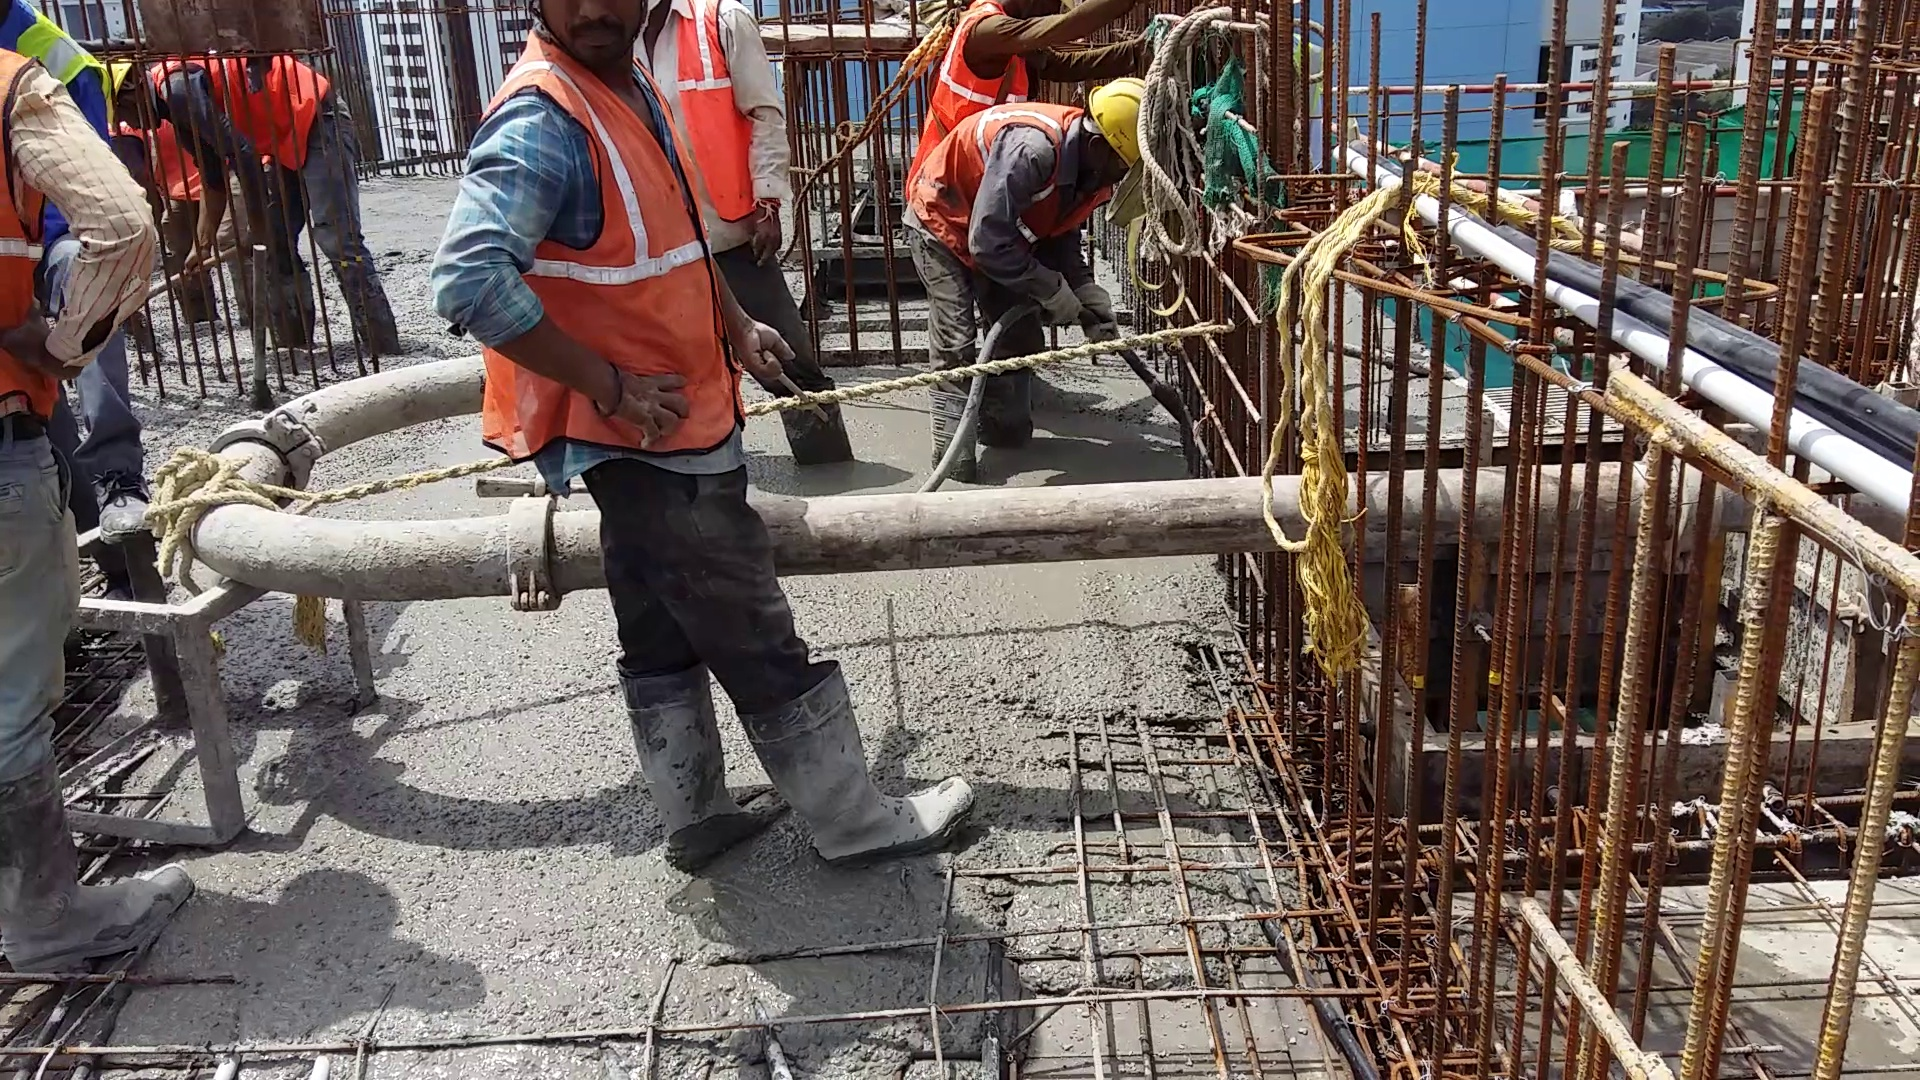NoHardhat: (520, 15, 735, 460)
SAFE: (902, 79, 1160, 287)
